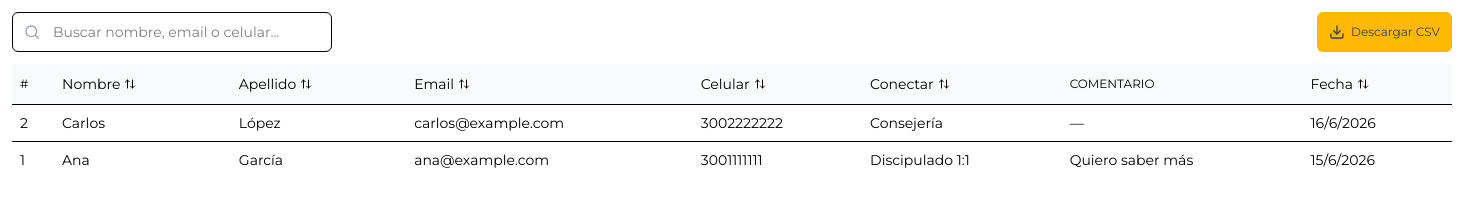
Test: ConsolidationTable › shows a no-results message when nothing matches
In the field labelled "Buscar nombre, email o celular...": (172, 32) [12, 12, 332, 52], type "zzzz"
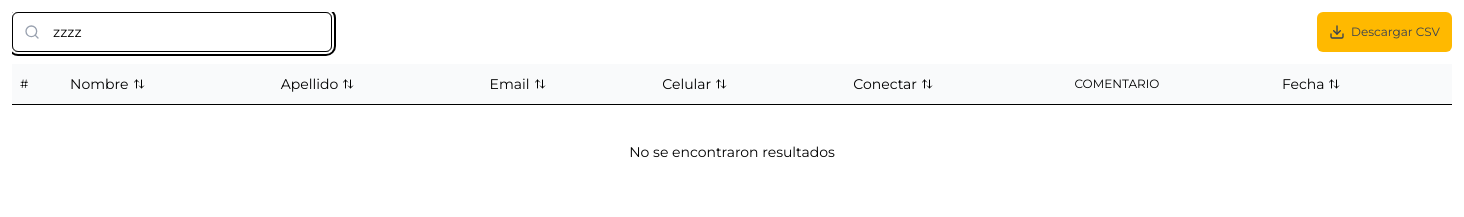
Now the text "No se encontraron resultados" is shown, box [12, 104, 1452, 200]
